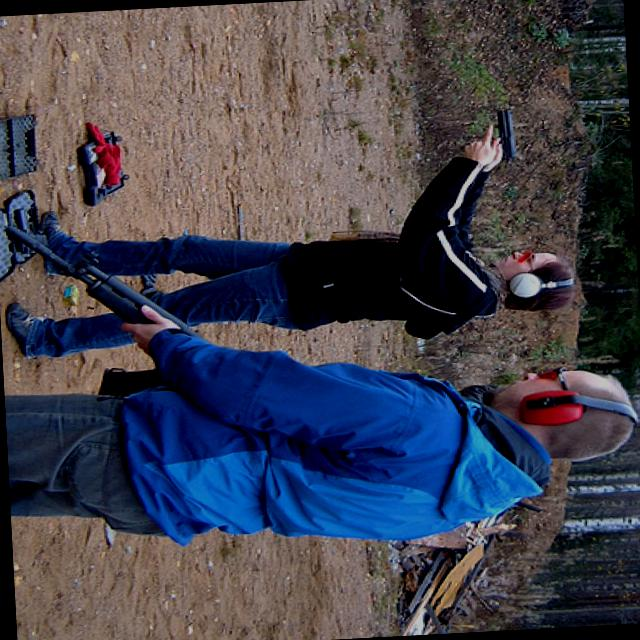handgun: (491, 108, 520, 168)
